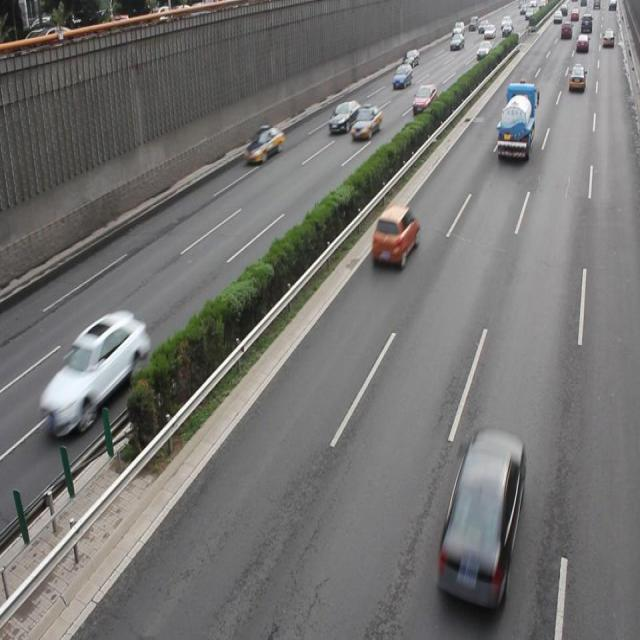bus: (495, 81, 536, 161)
car: (436, 423, 525, 606), (44, 308, 149, 435), (372, 204, 419, 268), (244, 123, 284, 165), (350, 104, 381, 139), (329, 98, 359, 133), (410, 82, 436, 114)
